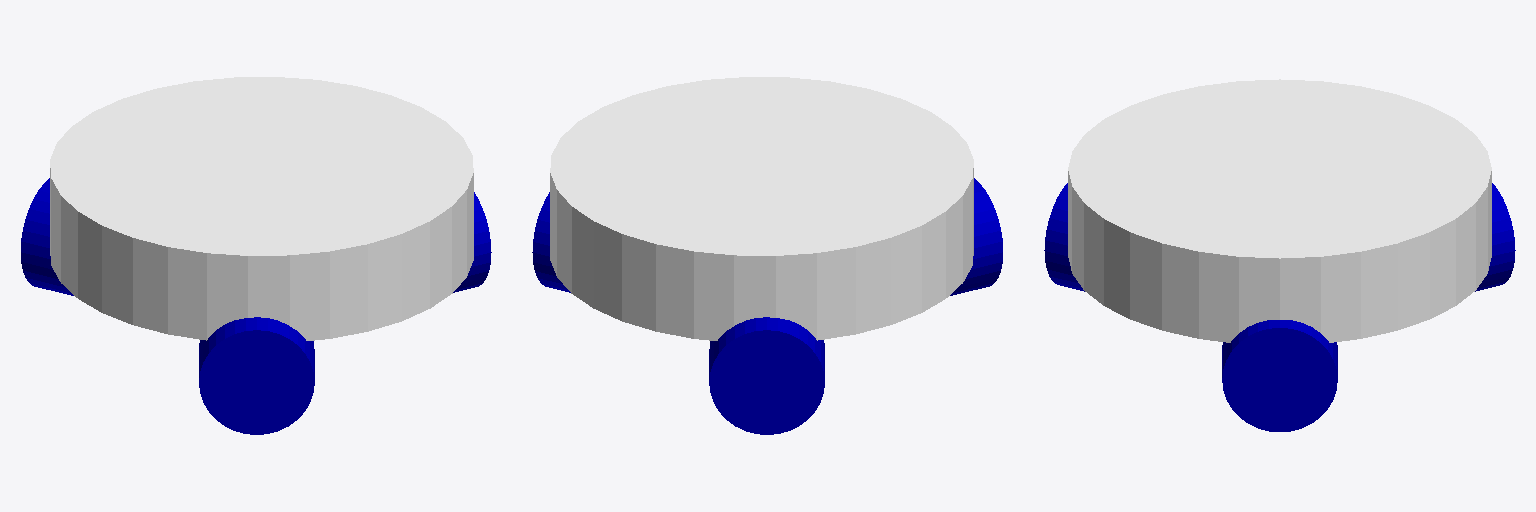
URDF robot description (wheeltec_robot):
<?xml version="1.0" ?>
<robot name="wheeltec_robot">

    <link name="base_link">
        <visual>
            <origin xyz=" 0 0 0.07" rpy="0 0 0" />
            <geometry>
                <cylinder length="0.05" radius="0.11"/>
            </geometry>
            <material name="white">
                <color rgba="1 1 1 1"/>
            </material>
        </visual>
    </link>   

    <link name="front_wheel">
        <visual>
            <origin rpy="0 1.57 0" xyz="0 0 0.0"/>
            <geometry>
                <cylinder length="0.04" radius="0.03"/>
            </geometry>
            <material name="black">
                <color rgba="0 0 0.8 1"/>
            </material>
        </visual>
    </link>

    <link name="left_wheel">
        <visual>
            <origin rpy="0 1.57 -1.05" xyz="0 0 0.0"/>
            <geometry>
                <cylinder length="0.04" radius="0.03"/>
            </geometry>
            <material name="blue">
                <color rgba="0 0 0.8 1"/>
            </material>
        </visual>
    </link>

    <link name="right_wheel">
        <visual>
            <origin rpy="0 1.57 1.05" xyz="0 0 0.0"/>
            <geometry>
                <cylinder length="0.04" radius="0.03"/>
            </geometry>
            <material name="blue">
                <color rgba="0 0 0.8 1"/>
            </material>
        </visual>
    </link>

    <joint name="base_to_front_wheel" type="fixed">
        <parent link="base_link"/>
        <child link="front_wheel"/>
        <origin rpy="0 0 0" xyz="0.1 0 0.03"/>
    </joint>

    <joint name="base_to_left_wheel" type="fixed">
        <parent link="base_link"/>
        <child link="left_wheel"/>
        <origin rpy="0 0 0" xyz="-0.055 0.09 0.03"/>
    </joint>

    <joint name="base_to_right_wheel" type="fixed">
        <parent link="base_link"/>
        <child link="right_wheel"/>
        <origin rpy="0 0 0" xyz="-0.055 -0.09 0.03"/>
    </joint>

    </robot>

--- What the picture shows (computed from the rendered views, not written in the file) ---
The picture shows the robot from 3 angles, left to right: view 1: azimuth 30°, elevation 25°; view 2: azimuth 150°, elevation 25°; view 3: azimuth 270°, elevation 25°; orthographic projection.
Robot: wheeltec_robot — 4 links, 3 joints (3 fixed); root link base_link; default pose: all joints at 0.
Visible links, largest first — view 1: base_link, right_wheel, left_wheel, front_wheel; view 2: base_link, left_wheel, right_wheel, front_wheel; view 3: base_link, front_wheel, left_wheel, right_wheel.
Boxes of the visible links, x1,y1,x2,y2 form: base_link: (50,77,473,340); right_wheel: (199,317,314,434); left_wheel: (21,178,73,295); front_wheel: (453,192,491,292); base_link: (550,77,973,340); left_wheel: (709,317,824,434); right_wheel: (950,178,1002,295); front_wheel: (532,192,570,292); base_link: (1068,79,1491,342); front_wheel: (1222,320,1337,431); left_wheel: (1475,183,1515,291); right_wheel: (1044,183,1084,291).
Bounding box of the posed robot: 0.23 × 0.2446 × 0.095 m (x, y, z).
Geometry: primitives only (box / cylinder / sphere), no mesh files.